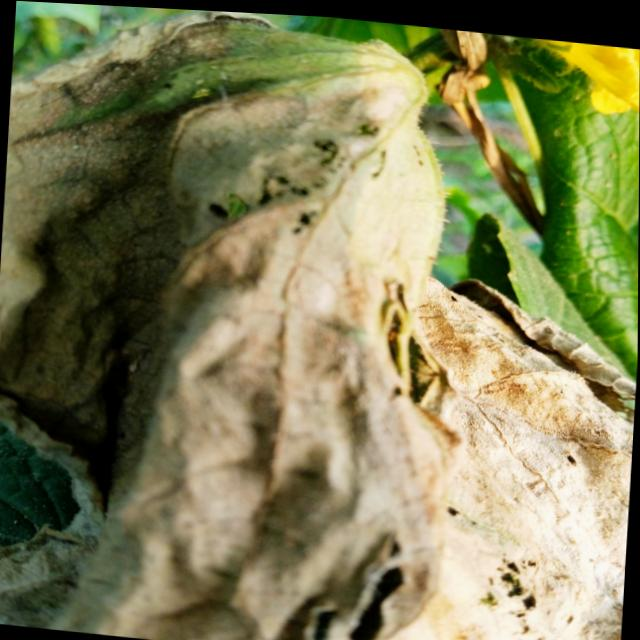Anthracnose: (204, 94, 391, 250), (298, 523, 410, 640), (470, 548, 547, 640)
